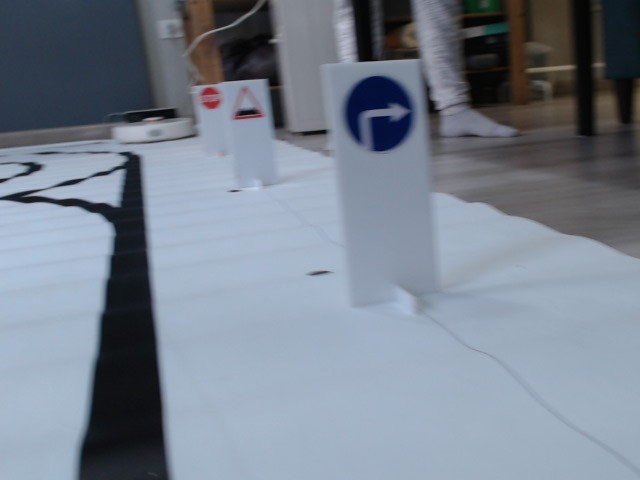Nerov: (231, 87, 264, 121)
Right: (343, 73, 415, 154)
